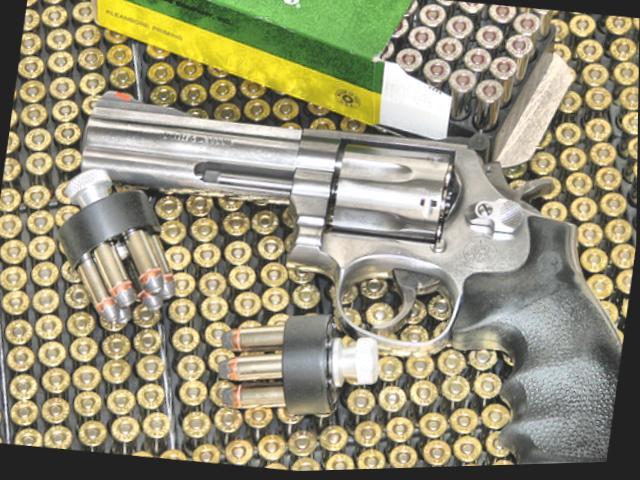pistol: (42, 73, 639, 479)
